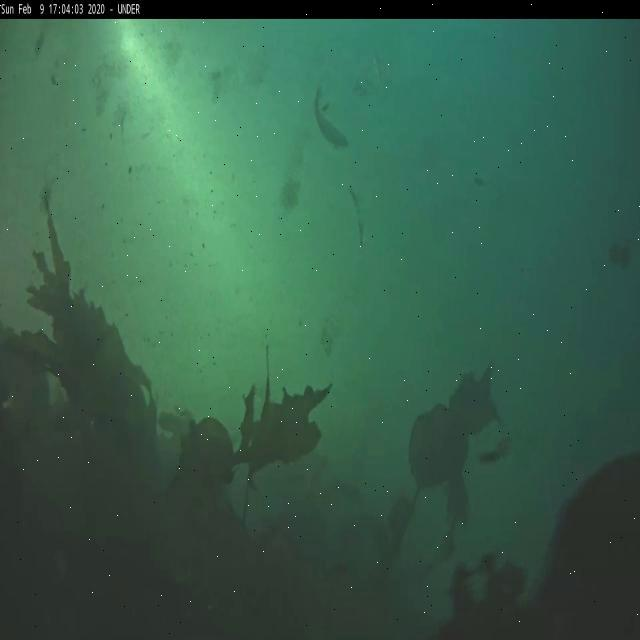fish: (313, 89, 352, 150)
